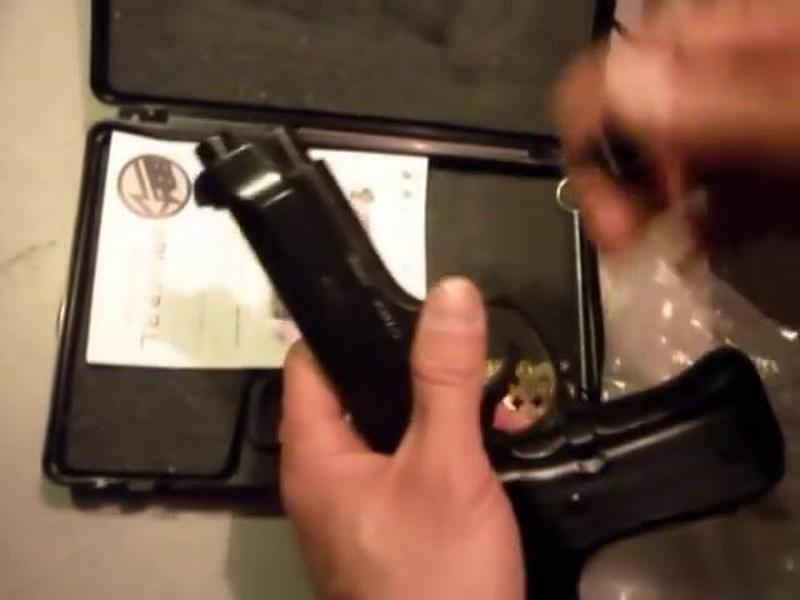Pistola: (169, 108, 797, 585)
